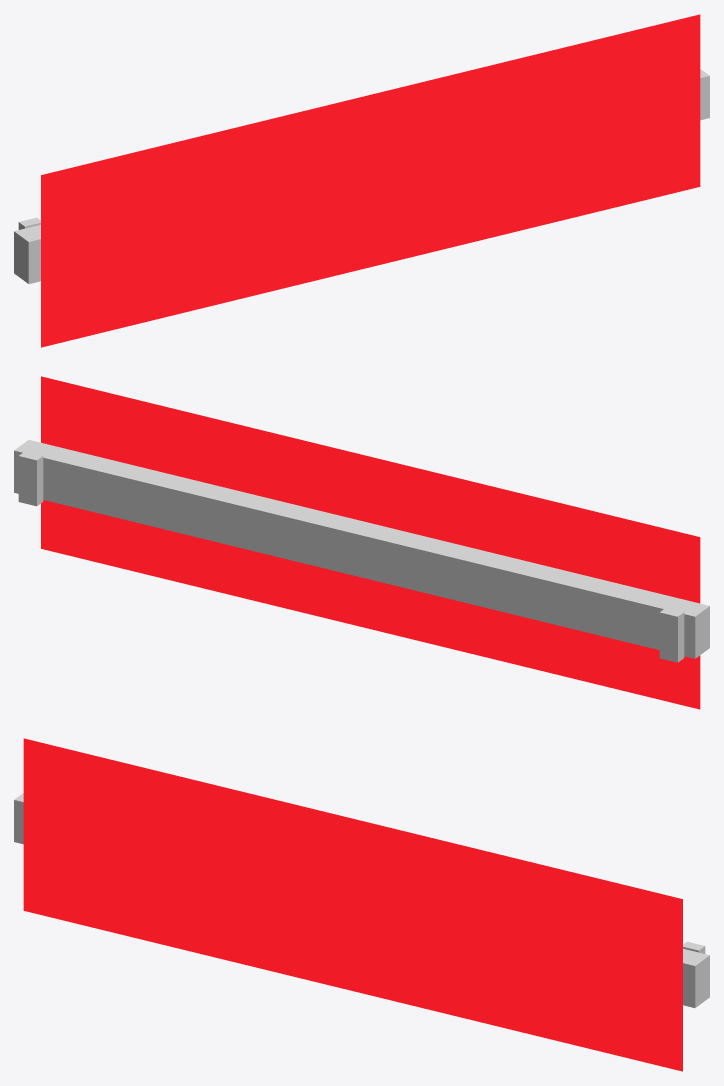
The model's file is sign_katana_wordmark.glb.
The picture shows the model from 3 angles, top to bottom: view 1: azimuth 30°, elevation 25°; view 2: azimuth 150°, elevation 25°; view 3: azimuth 330°, elevation 25°; orthographic projection.
Visible parts, largest first — view 1: sign_katana_wordmark_LOD0; view 2: sign_katana_wordmark_LOD0; view 3: sign_katana_wordmark_LOD0.
Part boxes in pixels (bbox=[...]): sign_katana_wordmark_LOD0: bbox=[14, 14, 709, 347]; sign_katana_wordmark_LOD0: bbox=[14, 376, 709, 709]; sign_katana_wordmark_LOD0: bbox=[14, 738, 709, 1071].
Size of what is drawn, in the model's own units: 1.86 by 0.45 by 0.106.
